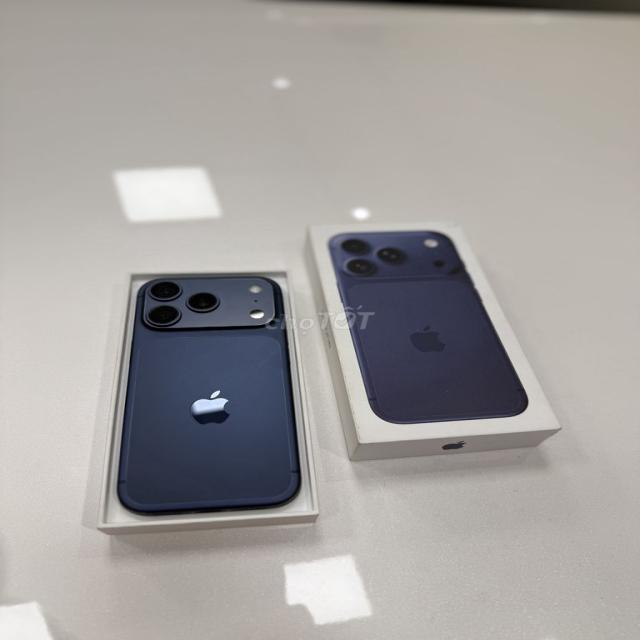gen_17: (122, 264, 306, 517)
